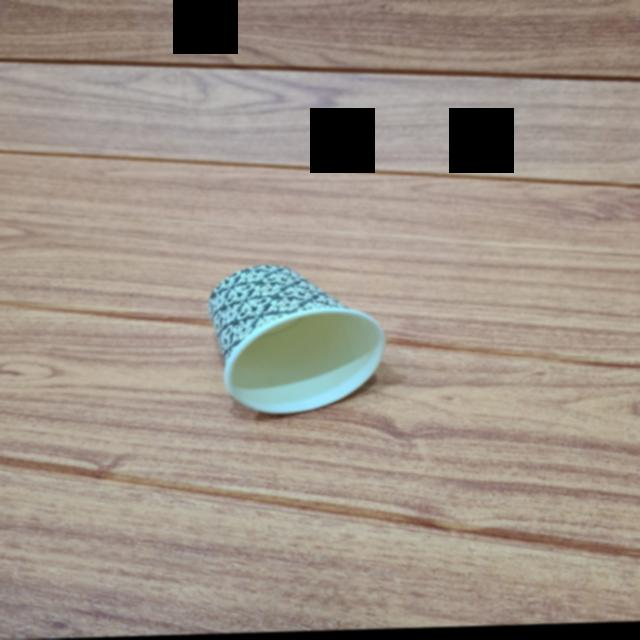cups: (200, 266, 391, 427)
